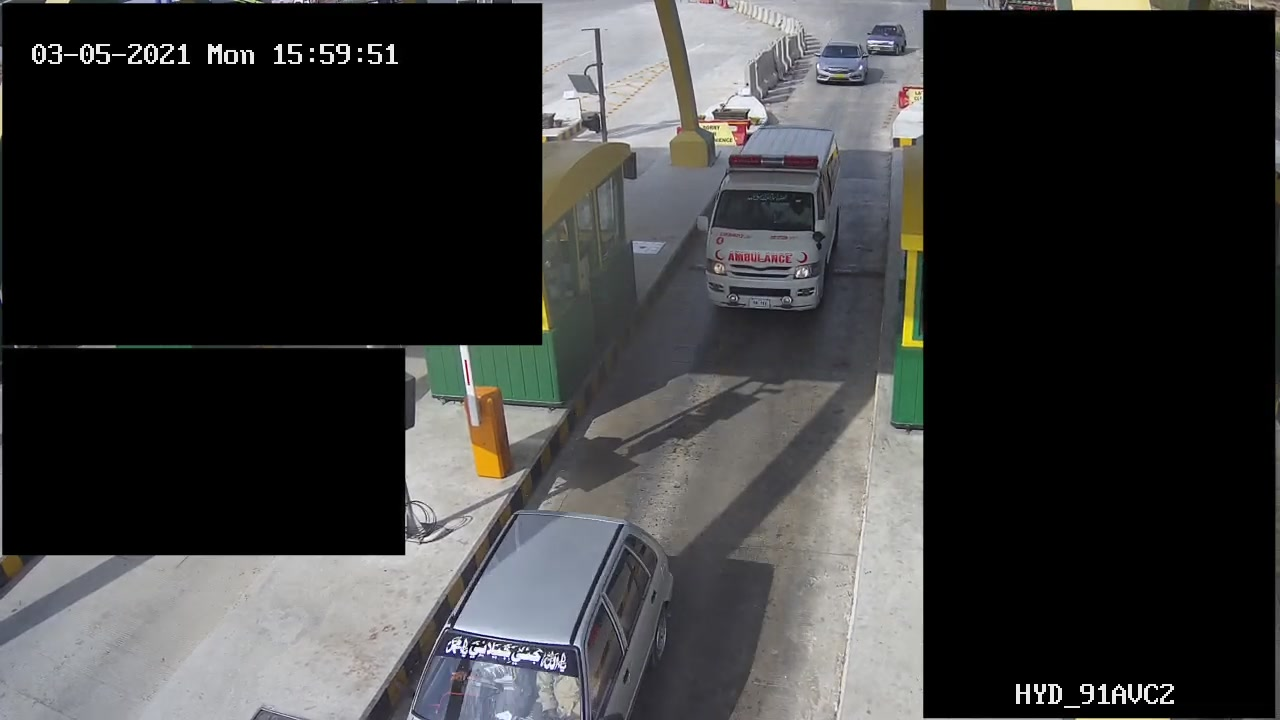F2: (695, 121, 853, 317)
